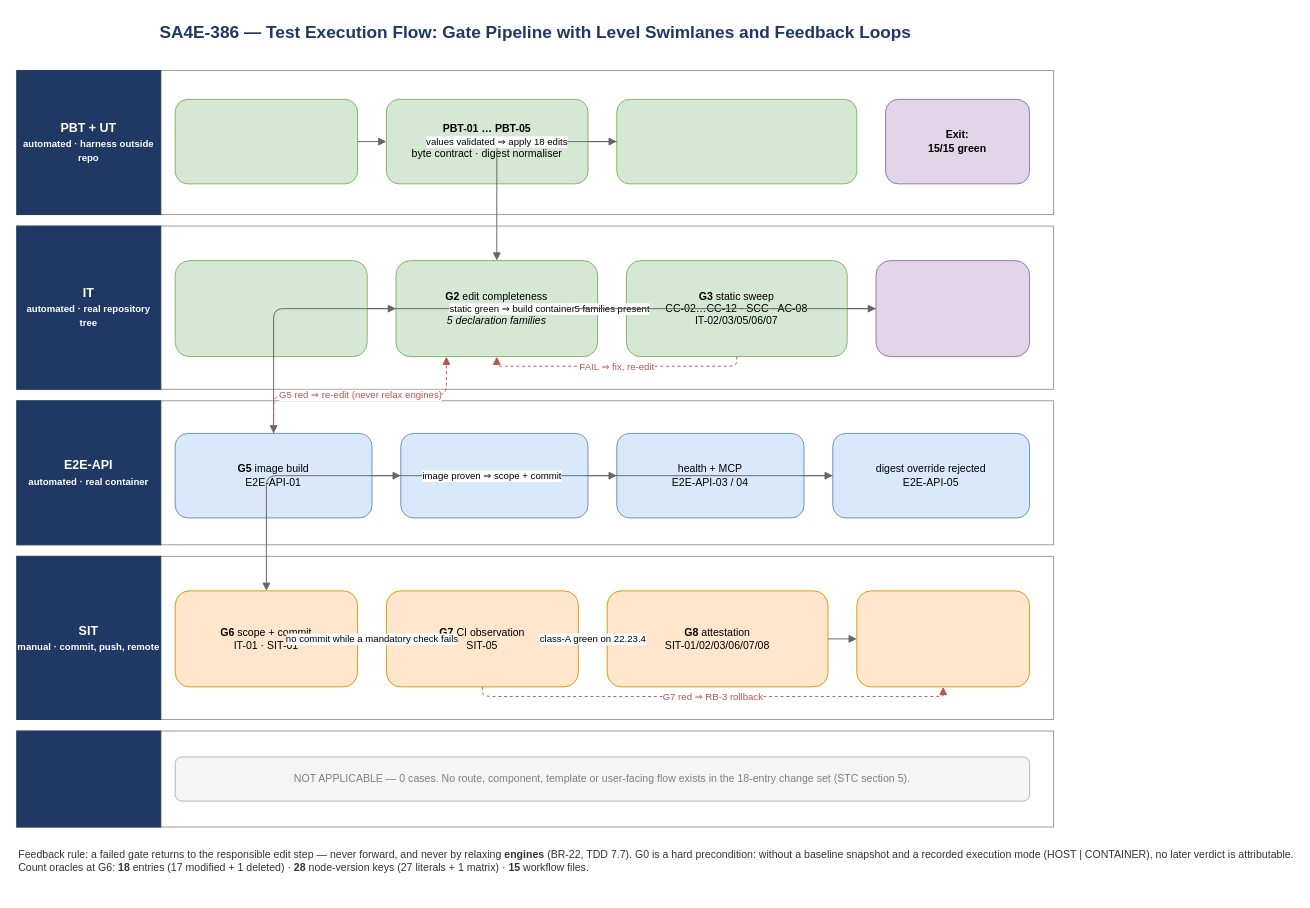
Some shapes in this 1310 by 908 pixel diagram are drawn without their labels. Each missing label, with the centre of its shape:
E2E-UI not applicable · 0 cases: point 88,778
Exit: 13/13 green: point 952,308
G0 preconditions baseline snapshot · census IT-01 support: point 270,308
Harness scaffold fast-check + vitest never committed (AD-7): point 266,141
native module load E2E-API-02: point 494,475
rollback + close-out SIT-04: point 943,638
UT-01 … UT-10 10 check-module tests verdict semantics · exit codes: point 736,141
